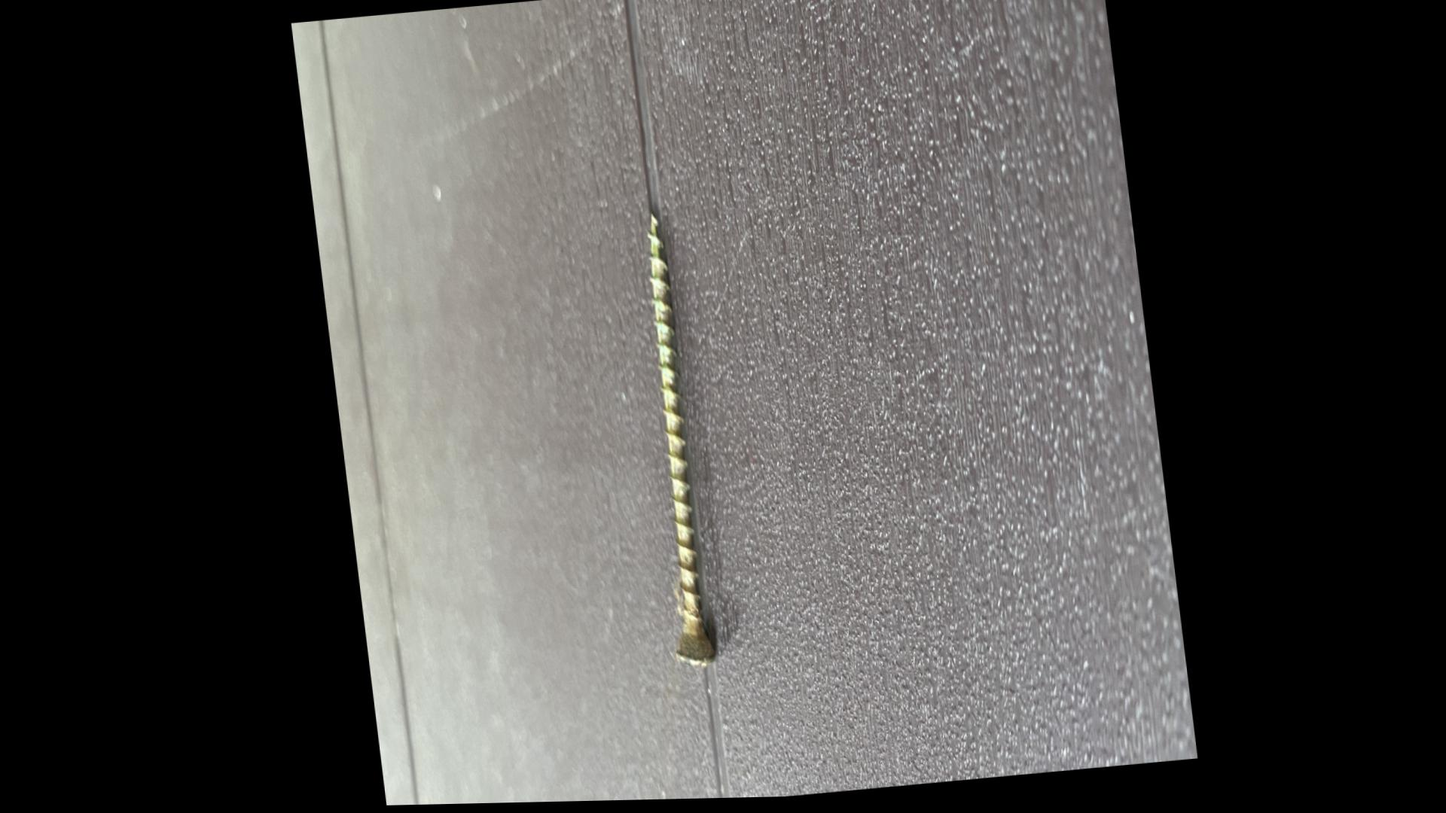screw: (603, 165, 740, 753)
